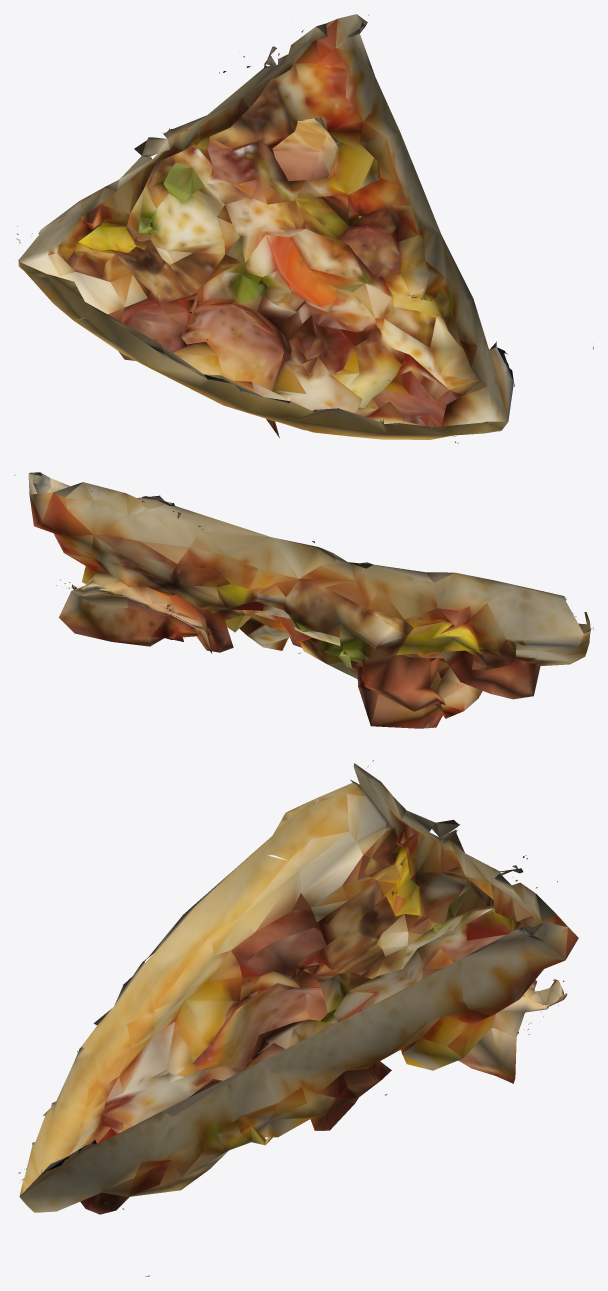
Rendered from pizza_2052.obj.
3 views of the same model, one above another, from view 1: azimuth 30°, elevation 25°; view 2: azimuth 150°, elevation 25°; view 3: azimuth 270°, elevation 25° (orthographic). The views are drawn at different scales.
Size of the model in its own units: 1.61 by 0.8372 by 1.27.
1 material, 1 textured.
